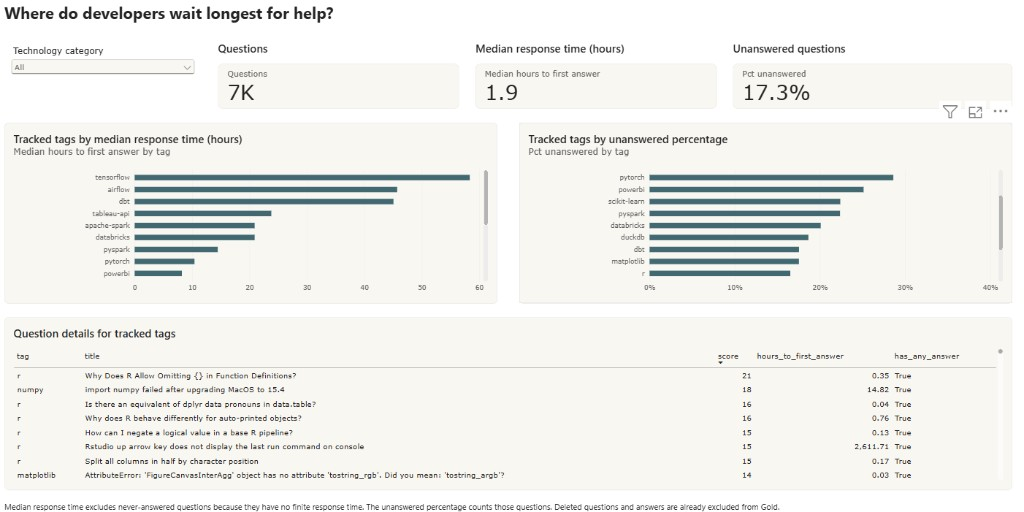

The page's visual inventory and layout, read from the dashboard file:
{"tool":"powerbi","page":{"name":"Response Time","canvas":[1920,1080],"ordinal":1},"visuals":[{"type":"textbox","box":[40,18,1840,58],"z":1},{"type":"slicer","fields":{"Values":["dim_tag.category"]},"box":[40,90,360,125],"z":2},{"type":"cardVisual","title":"Questions","fields":{"Data":["Measures (2).Questions"]},"box":[430,90,440,125],"z":3},{"type":"cardVisual","title":"Median response time (hours)","fields":{"Data":["Measures (2).Median hours to first answer"]},"box":[900,90,440,125],"z":4},{"type":"cardVisual","title":"Unanswered questions","fields":{"Data":["Measures (2).Pct unanswered"]},"box":[1370,90,510,125],"z":5},{"type":"clusteredBarChart","title":"Tracked tags by median response time (hours)","fields":{"Category":["dim_tag.tag"],"Y":["Measures (2).Median hours to first answer"]},"box":[40,240,900,330],"z":6},{"type":"clusteredBarChart","title":"Tracked tags by unanswered percentage","fields":{"Category":["dim_tag.tag"],"Y":["Measures (2).Pct unanswered"]},"box":[980,240,900,330],"z":7},{"type":"tableEx","title":"Question details for tracked tags","fields":{"Values":["bridge_question_tag.tag","fact_question.title","fact_question.score","fact_question.hours_to_first_answer","fact_question.has_any_answer"]},"box":[40,595,1840,315],"z":8},{"type":"textbox","box":[40,930,1840,70],"z":9},{"type":"textbox","box":[40,1040,1840,26],"z":99}]}

Visuals, with their boxes on the page's 1920x1080 design canvas (x1, y1, x2, y2). These are canvas units, not pixel positions in the 1024x512 screenshot, which may show the page scaled, cropped or inside an application window:
textbox: (x1=40, y1=18, x2=1880, y2=76)
slicer - dim_tag.category: (x1=40, y1=90, x2=400, y2=215)
"Questions" cardVisual: (x1=430, y1=90, x2=870, y2=215)
"Median response time (hours)" cardVisual: (x1=900, y1=90, x2=1340, y2=215)
"Unanswered questions" cardVisual: (x1=1370, y1=90, x2=1880, y2=215)
"Tracked tags by median response time (hours)" clusteredBarChart: (x1=40, y1=240, x2=940, y2=570)
"Tracked tags by unanswered percentage" clusteredBarChart: (x1=980, y1=240, x2=1880, y2=570)
"Question details for tracked tags" tableEx: (x1=40, y1=595, x2=1880, y2=910)
textbox: (x1=40, y1=930, x2=1880, y2=1000)
textbox: (x1=40, y1=1040, x2=1880, y2=1066)
